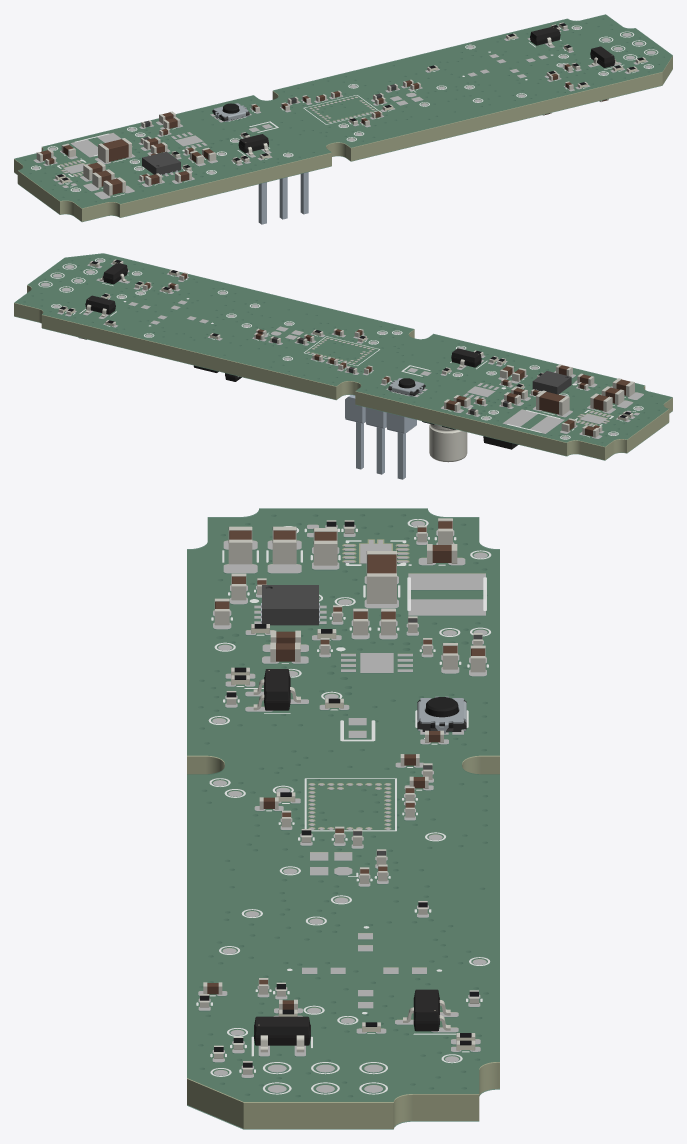
The model's file is pcb-radar.glb.
3 views of the same model, one above another, from view 1: azimuth 30°, elevation 25°; view 2: azimuth 150°, elevation 25°; view 3: azimuth 270°, elevation 25° (orthographic). The views are drawn at different scales.
Parts seen in each view (by area): view 1: =>[0:1:1:22], =>[0:1:1:20], =>[0:1:1:17], =>[0:1:1:18], J1, =>[0:1:1:21], =>[0:1:1:2], C38, Q1, Q4, Q6, C10; view 2: =>[0:1:1:22], =>[0:1:1:20], =>[0:1:1:17], J1, =>[0:1:1:18], C6, =>[0:1:1:21], =>[0:1:1:2], C38, Q4, Q1, Q6; view 3: =>[0:1:1:22], =>[0:1:1:20], =>[0:1:1:17], =>[0:1:1:18], =>[0:1:1:2], Q6, C38, Q4, Q1, C12, C10, C14.
Boxes of the visible parts, x1,y1,x2,y2 form: =>[0:1:1:22]: (14,15,672,221); =>[0:1:1:20]: (14,14,672,208); =>[0:1:1:17]: (32,25,655,199); =>[0:1:1:18]: (31,25,658,196); J1: (258,172,308,224); =>[0:1:1:21]: (14,69,672,222); =>[0:1:1:2]: (142,151,180,174); C38: (98,138,131,163); Q1: (238,134,269,155); Q4: (530,26,560,46); Q6: (590,46,618,67); C10: (103,177,125,195); =>[0:1:1:22]: (14,254,672,460); =>[0:1:1:20]: (14,253,672,446); =>[0:1:1:17]: (41,259,643,438); J1: (345,395,416,479); =>[0:1:1:18]: (38,258,643,439); C6: (422,421,467,462); =>[0:1:1:21]: (14,316,672,460); =>[0:1:1:2]: (532,371,571,394); C38: (536,390,569,415); Q4: (85,295,115,317); Q1: (451,348,481,367); Q6: (99,262,127,284); =>[0:1:1:22]: (187,509,499,1128); =>[0:1:1:20]: (187,508,499,1101); =>[0:1:1:17]: (198,521,487,1092); =>[0:1:1:18]: (196,519,491,1094); =>[0:1:1:2]: (262,585,318,625); Q6: (254,1016,310,1052); C38: (366,551,396,603); Q4: (403,989,450,1031); Q1: (253,669,300,710); C12: (272,526,296,564); C10: (228,526,252,564); C14: (313,528,337,565).
Size of the model in its own units: 0.074 by 0.0136 by 0.0165.
